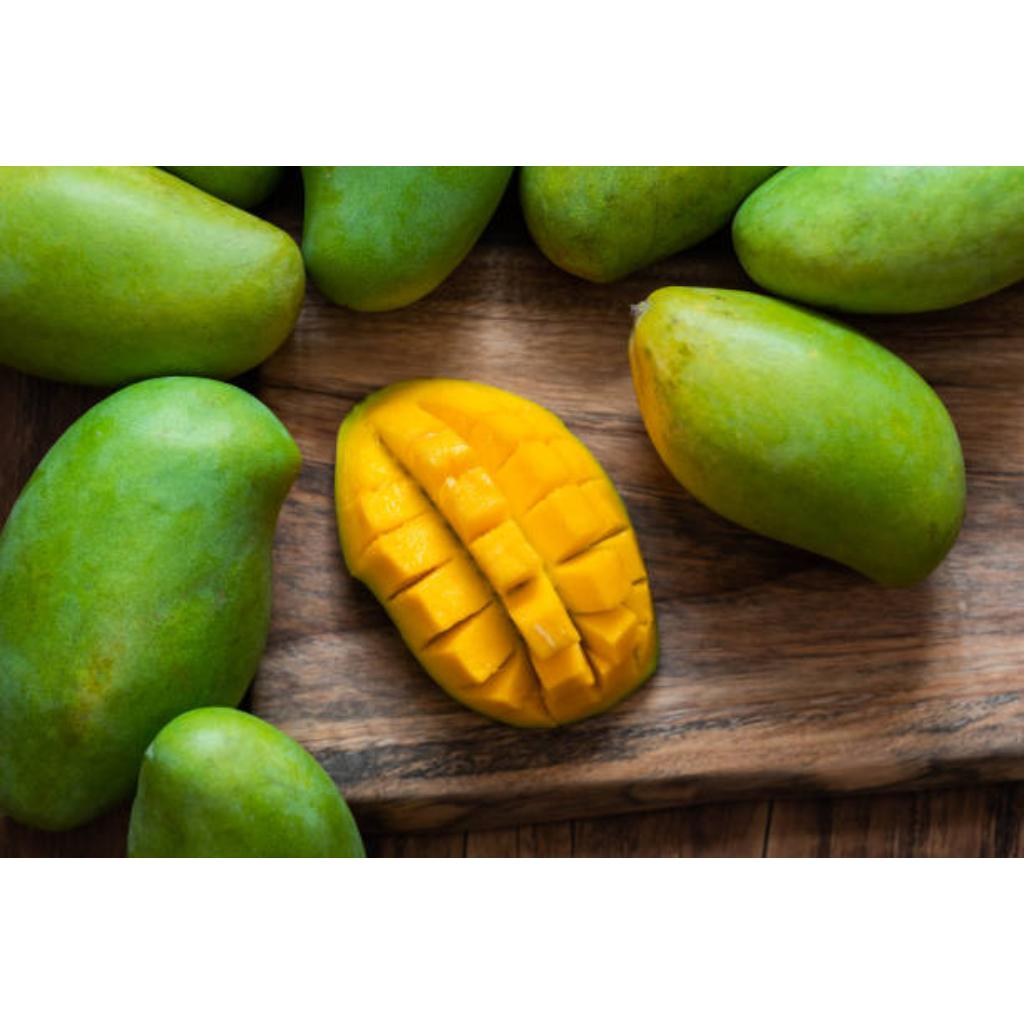mango: (0, 378, 300, 830), (336, 380, 658, 727), (630, 286, 966, 587), (0, 168, 304, 385), (129, 708, 364, 858)
